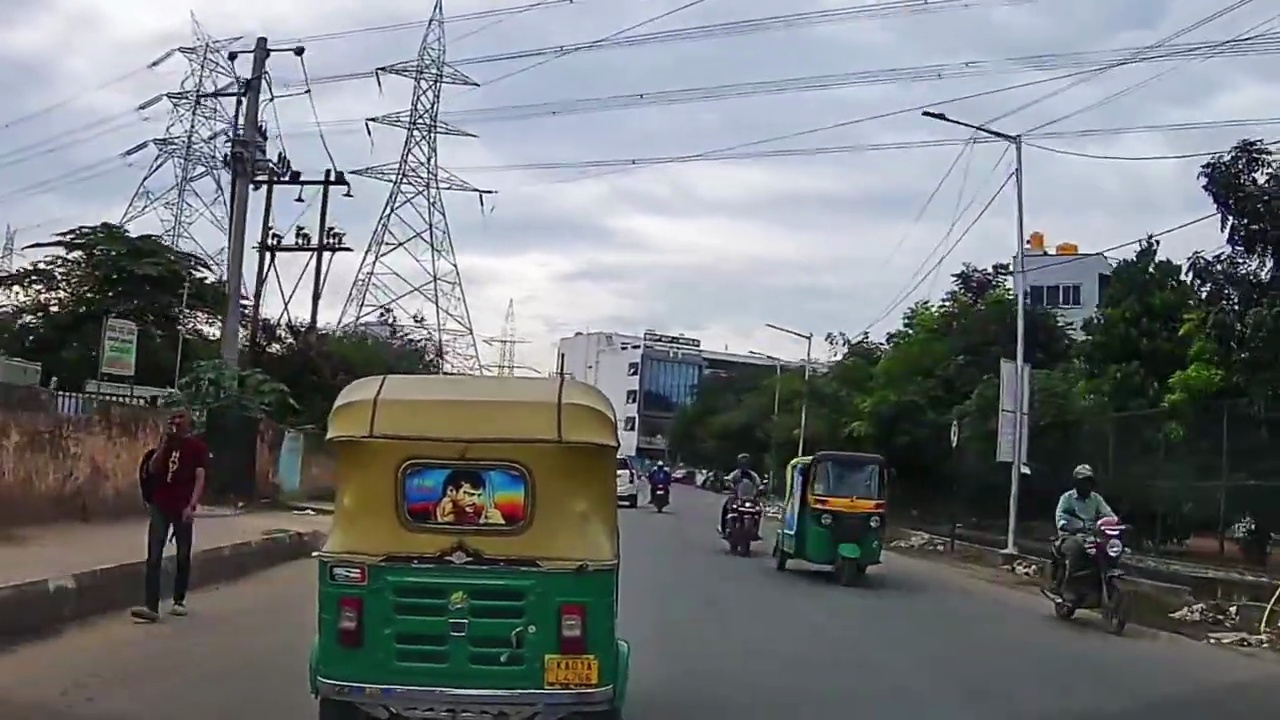garbage: (1176, 597, 1268, 644), (894, 525, 943, 549), (1002, 559, 1034, 577)
